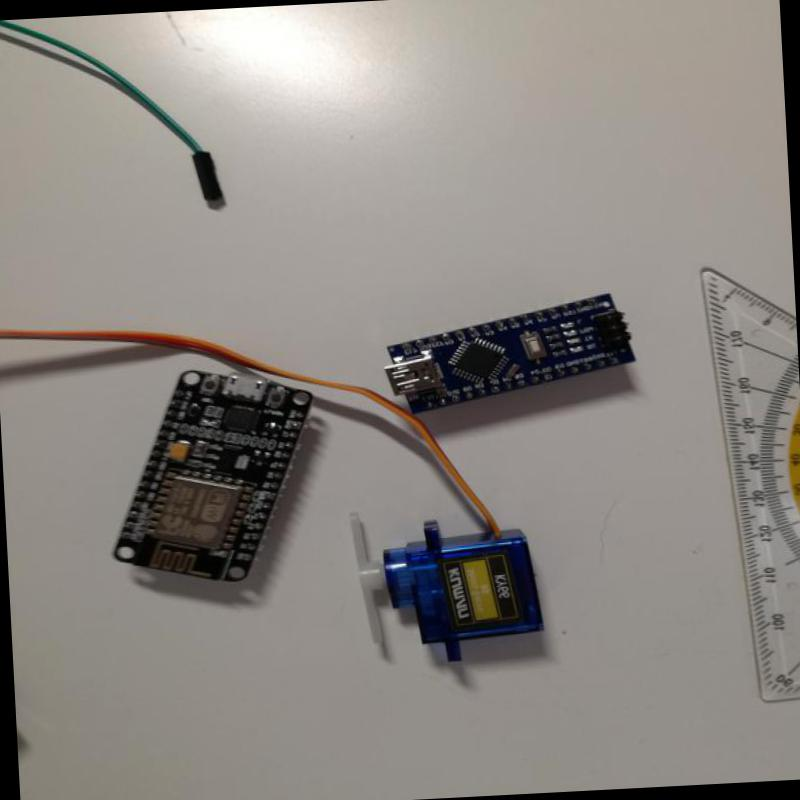Arduino_Nano: (379, 286, 645, 429)
ESP8266: (98, 359, 323, 594)
